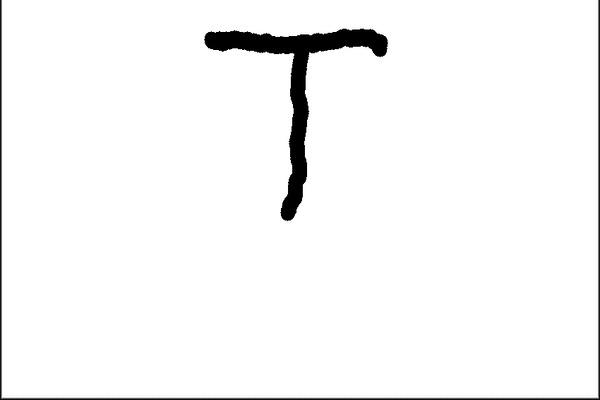T: (194, 12, 395, 225)
